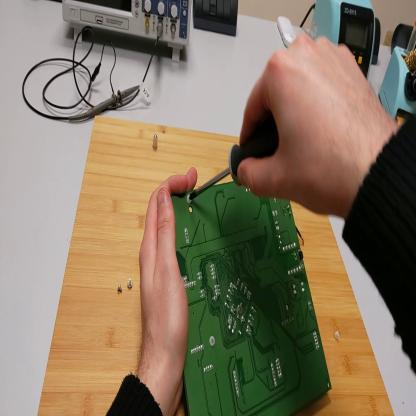hand: (235, 33, 388, 217), (138, 173, 197, 369)
low voltage board: (173, 182, 334, 416)
oscilloscope: (62, 2, 192, 62)
oscilloscope probe tip: (70, 85, 142, 122)
screwdriver-: (190, 117, 281, 201)
socket: (391, 21, 416, 54), (372, 16, 383, 67)
welder base: (380, 13, 416, 121)
welder station: (315, 1, 376, 83)
working area: (39, 117, 395, 415)
